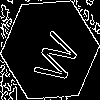W: (25, 25, 81, 88)
